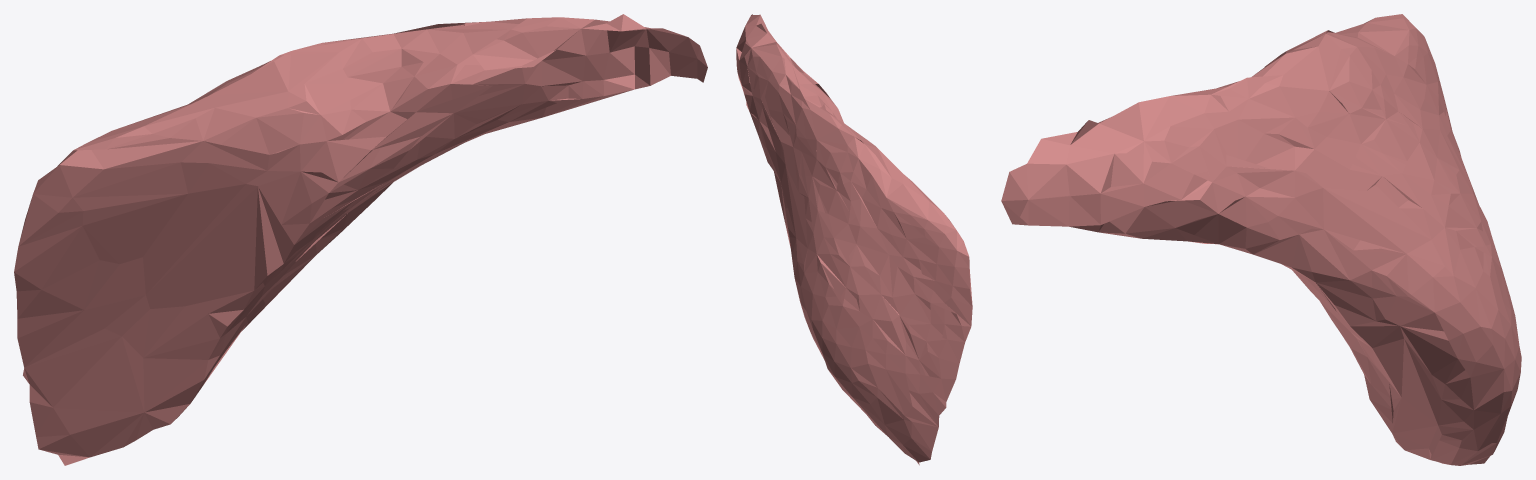
File: Infraspinatus_muscle.l.glb
3 renders of one model, left to right at view 1: azimuth 30°, elevation 25°; view 2: azimuth 150°, elevation 25°; view 3: azimuth 270°, elevation 25°, orthographic. The views are drawn at different scales.
Parts seen in each view (by area): view 1: Infraspinatus_muscle.l; view 2: Infraspinatus_muscle.l; view 3: Infraspinatus_muscle.l.
Boxes of the visible parts, x1,y1,x2,y2 form: Infraspinatus_muscle.l: (14,14,707,465); Infraspinatus_muscle.l: (736,14,972,465); Infraspinatus_muscle.l: (1001,14,1521,465).
Size of the model in its own units: 0.1316 by 0.1135 by 0.0907.
